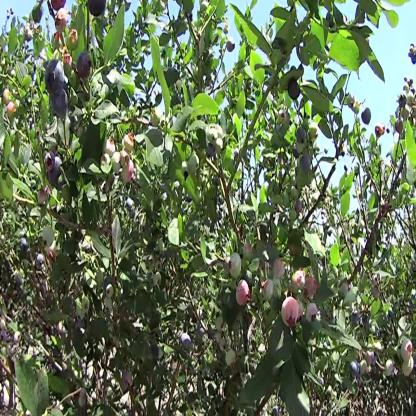intermediate: (280, 296, 302, 338), (183, 147, 199, 182), (303, 266, 317, 299), (54, 4, 68, 36), (294, 267, 307, 301), (124, 128, 139, 154), (123, 158, 135, 190), (122, 128, 138, 152), (382, 356, 398, 378), (376, 118, 386, 147), (273, 261, 287, 281), (263, 280, 272, 310), (7, 103, 20, 120)
mature: (44, 60, 67, 92), (49, 91, 71, 124), (46, 151, 65, 186), (235, 277, 251, 311), (77, 52, 92, 81), (287, 76, 301, 102), (181, 329, 195, 355), (34, 249, 46, 276), (300, 151, 315, 172), (362, 105, 373, 128), (395, 93, 409, 110), (349, 363, 360, 384), (351, 307, 361, 330), (395, 116, 405, 139), (295, 201, 305, 216)
young: (208, 119, 222, 153), (225, 346, 238, 372), (403, 335, 414, 363), (74, 302, 84, 327), (279, 107, 289, 132), (83, 289, 91, 320), (281, 190, 291, 213), (105, 282, 115, 297), (105, 298, 114, 314), (292, 183, 300, 201)
